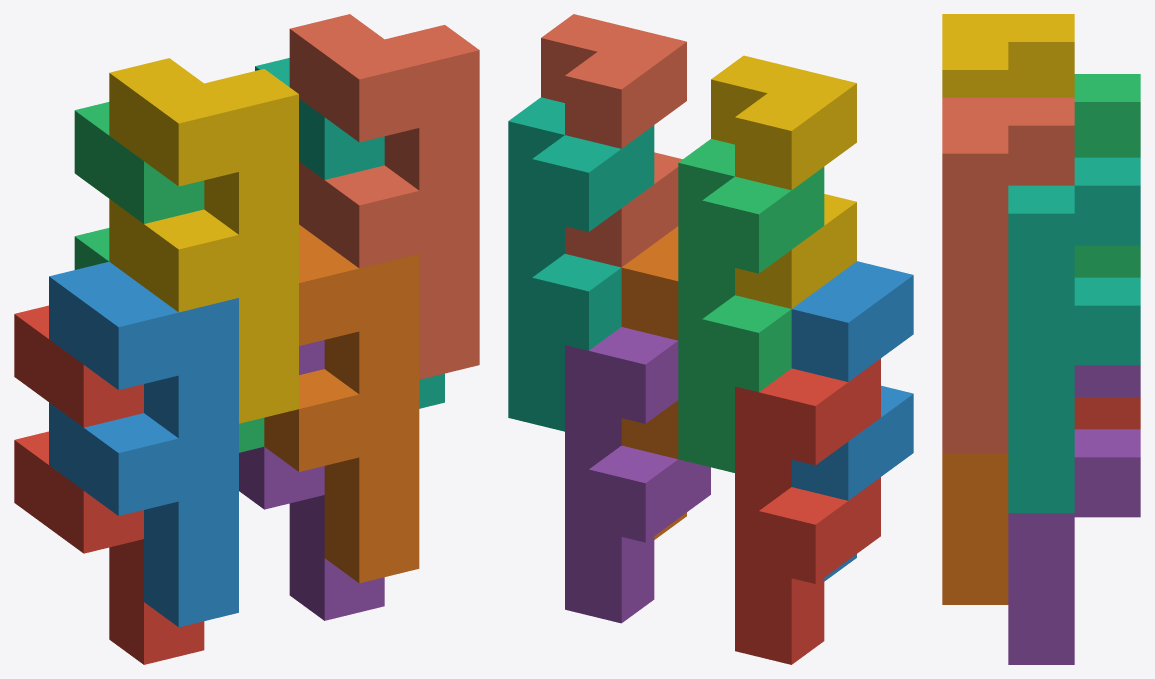
File: tiling.obj
The picture shows the model from 3 angles, left to right: view 1: azimuth 30°, elevation 25°; view 2: azimuth 150°, elevation 25°; view 3: azimuth 270°, elevation 25°; orthographic projection. The views are drawn at different scales.
Visible parts, largest first — view 1: copy_1_domain_2, copy_1_domain_4, copy_1_domain_8, copy_1_domain_6, copy_1_domain_1, copy_1_domain_5, copy_1_domain_3, copy_1_domain_7; view 2: copy_1_domain_1, copy_1_domain_3, copy_1_domain_7, copy_1_domain_5, copy_1_domain_4, copy_1_domain_8, copy_1_domain_2, copy_1_domain_6; view 3: copy_1_domain_7, copy_1_domain_8, copy_1_domain_5, copy_1_domain_4, copy_1_domain_6, copy_1_domain_3, copy_1_domain_1.
Boxes of the visible parts, x1,y1,x2,y2 form: copy_1_domain_2: (49, 262, 238, 627); copy_1_domain_4: (109, 58, 298, 423); copy_1_domain_8: (289, 14, 479, 379); copy_1_domain_6: (264, 224, 419, 583); copy_1_domain_1: (14, 305, 204, 664); copy_1_domain_5: (239, 340, 384, 620); copy_1_domain_3: (74, 102, 264, 452); copy_1_domain_7: (255, 58, 444, 408); copy_1_domain_1: (735, 358, 880, 664); copy_1_domain_3: (678, 139, 824, 472); copy_1_domain_7: (508, 97, 654, 431); copy_1_domain_5: (565, 327, 710, 623); copy_1_domain_4: (711, 55, 856, 308); copy_1_domain_8: (541, 14, 686, 267); copy_1_domain_2: (791, 261, 913, 581); copy_1_domain_6: (621, 226, 686, 539); copy_1_domain_7: (1008, 157, 1140, 513); copy_1_domain_8: (942, 97, 1074, 453); copy_1_domain_5: (1008, 365, 1140, 664); copy_1_domain_4: (942, 14, 1074, 97); copy_1_domain_6: (942, 453, 1008, 604); copy_1_domain_3: (1074, 74, 1140, 277); copy_1_domain_1: (1074, 397, 1140, 429).
Bounding box in the file's own units: 6 × 9 × 3.
